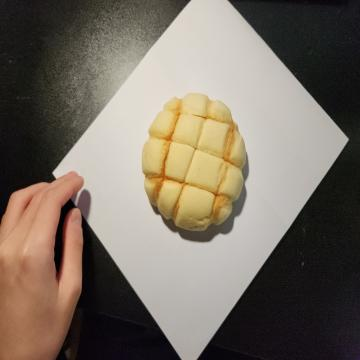melon_bread: (142, 93, 247, 232)
